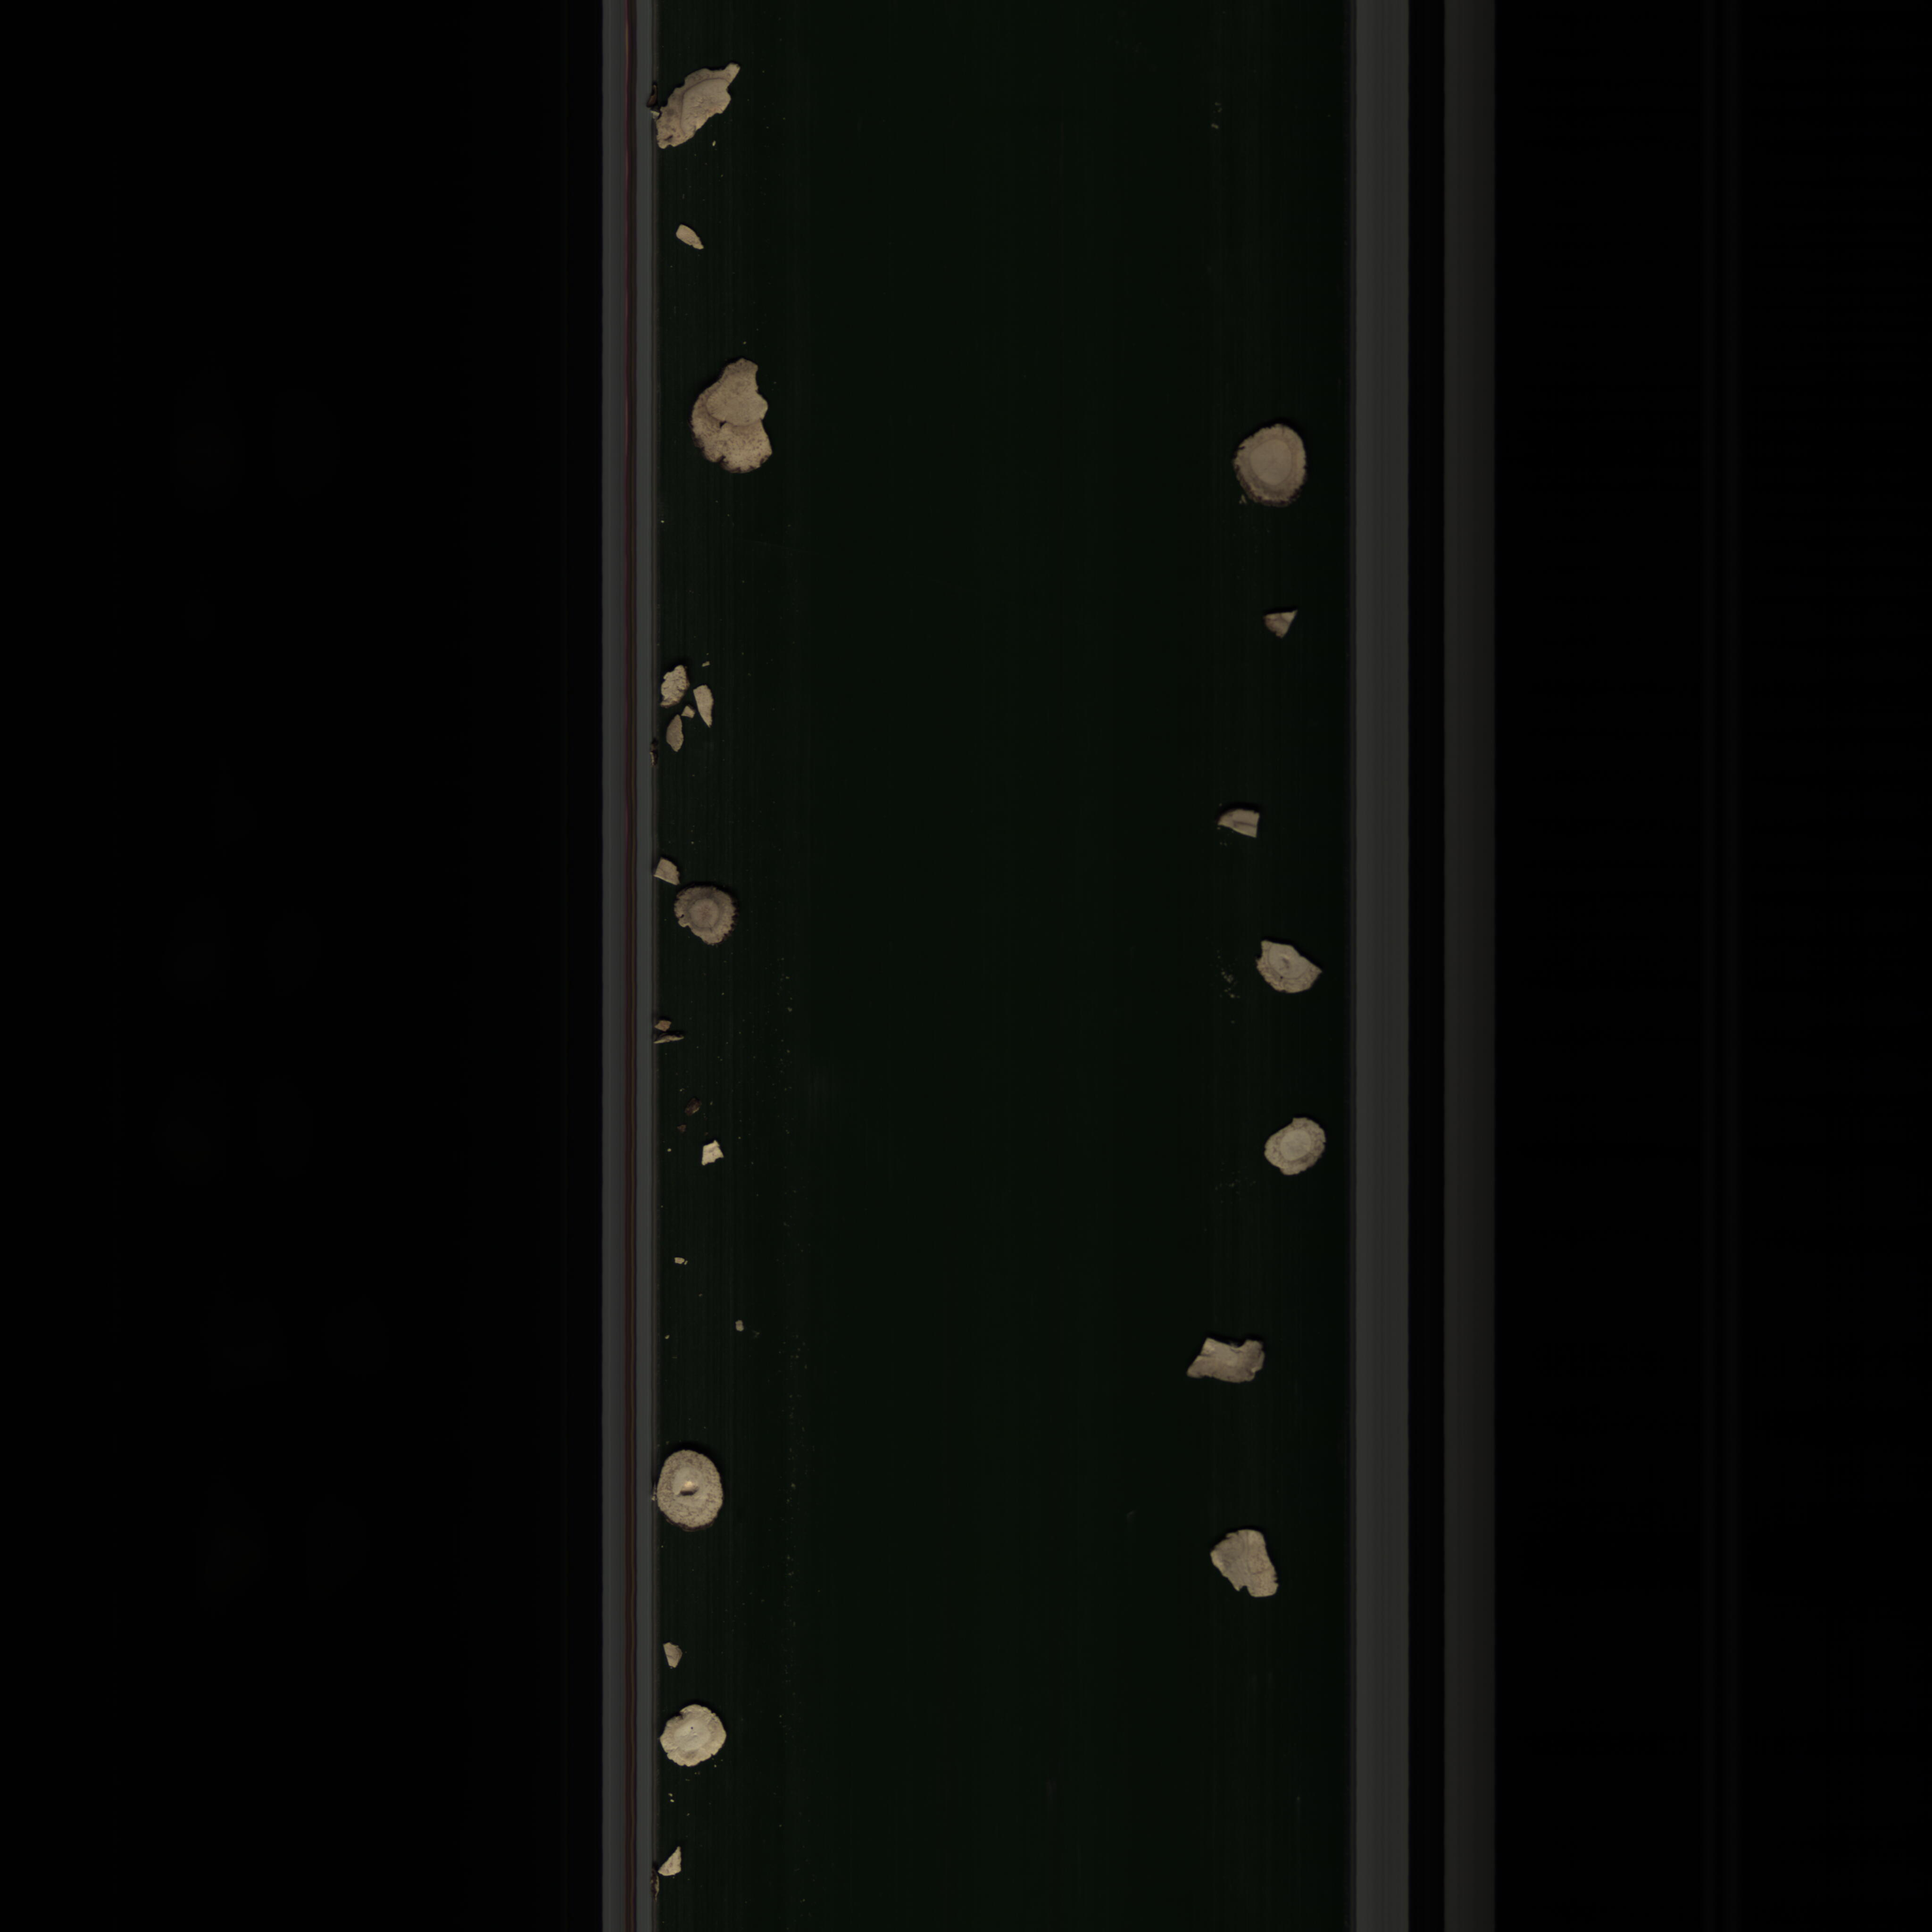debris: (651, 60, 752, 154), (1200, 1518, 1284, 1619), (1180, 1327, 1277, 1391), (1246, 938, 1334, 998), (1258, 605, 1307, 649), (1217, 805, 1274, 840)
hole: (649, 1449, 734, 1536)
moldy: (686, 350, 782, 492), (674, 885, 740, 955)
